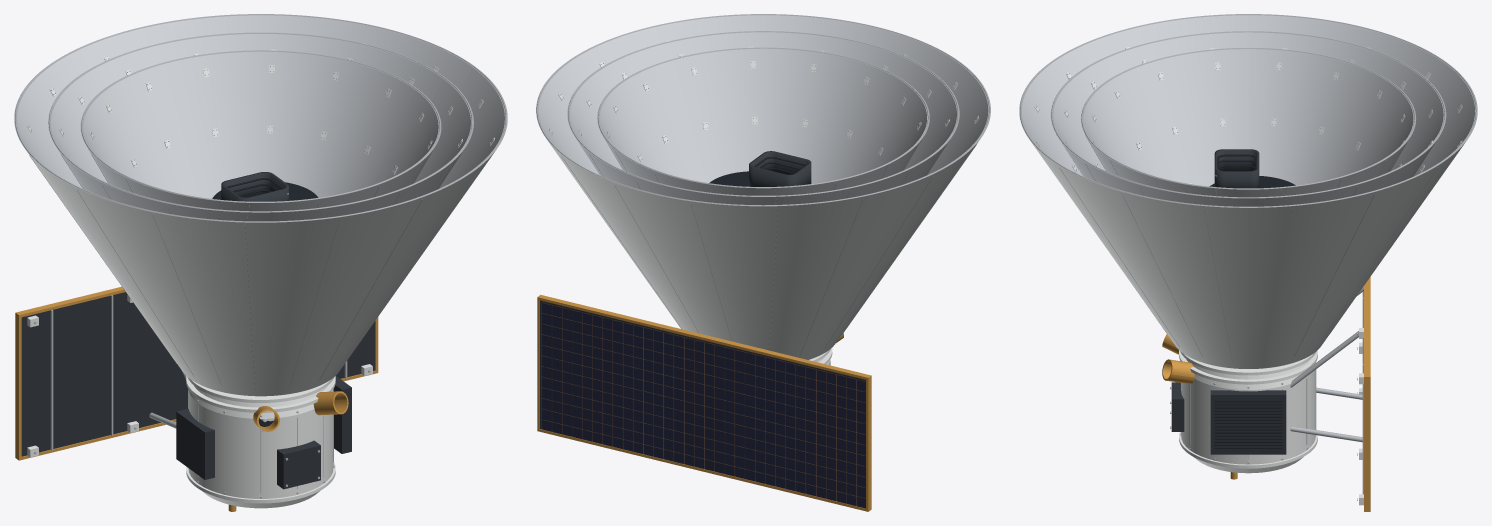
Rendered from spherex-hero.glb.
3 renders of one model, left to right at view 1: azimuth 30°, elevation 25°; view 2: azimuth 150°, elevation 25°; view 3: azimuth 270°, elevation 25°, orthographic. The views are drawn at different scales.
Parts seen in each view (by area): view 1: Shield_Outer_Cutaway_Mesh, Shield_Inner_Fixed_Mesh, Solar_Array_Mesh, Spacecraft_Bus_Mesh, Shield_Outer_Fixed_Mesh, Shield_Middle_Fixed_Mesh, Shield_Middle_Cutaway_Mesh, Shield_Inner_Cutaway_Mesh, Telescope_Mesh, Attitude_Sensors_Mesh; view 2: Solar_Array_Mesh, Shield_Outer_Fixed_Mesh, Shield_Inner_Cutaway_Mesh, Shield_Outer_Cutaway_Mesh, Shield_Middle_Cutaway_Mesh, Shield_Middle_Fixed_Mesh, Shield_Inner_Fixed_Mesh, Telescope_Mesh; view 3: Shield_Outer_Cutaway_Mesh, Shield_Outer_Fixed_Mesh, Shield_Inner_Fixed_Mesh, Shield_Inner_Cutaway_Mesh, Spacecraft_Bus_Mesh, Shield_Middle_Cutaway_Mesh, Shield_Middle_Fixed_Mesh, Solar_Array_Mesh, Telescope_Mesh, Attitude_Sensors_Mesh.
Boxes of the visible parts, x1,y1,x2,y2 form: Shield_Outer_Cutaway_Mesh: (47, 66, 507, 396); Shield_Inner_Fixed_Mesh: (80, 50, 416, 198); Solar_Array_Mesh: (15, 286, 378, 460); Spacecraft_Bus_Mesh: (176, 376, 351, 508); Shield_Outer_Fixed_Mesh: (14, 14, 474, 378); Shield_Middle_Fixed_Mesh: (48, 32, 444, 192); Shield_Middle_Cutaway_Mesh: (77, 77, 473, 221); Shield_Inner_Cutaway_Mesh: (105, 88, 441, 211); Telescope_Mesh: (212, 172, 318, 201); Attitude_Sensors_Mesh: (253, 391, 348, 431); Solar_Array_Mesh: (537, 294, 871, 511); Shield_Outer_Fixed_Mesh: (536, 62, 959, 359); Shield_Inner_Cutaway_Mesh: (620, 47, 929, 183); Shield_Outer_Cutaway_Mesh: (567, 14, 990, 349); Shield_Middle_Cutaway_Mesh: (594, 31, 959, 178); Shield_Middle_Fixed_Mesh: (567, 72, 933, 205); Shield_Inner_Fixed_Mesh: (597, 82, 907, 195); Telescope_Mesh: (709, 151, 811, 186); Shield_Outer_Cutaway_Mesh: (1019, 14, 1248, 368); Shield_Outer_Fixed_Mesh: (1248, 14, 1477, 368); Shield_Inner_Fixed_Mesh: (1248, 48, 1416, 197); Shield_Inner_Cutaway_Mesh: (1080, 48, 1248, 197); Spacecraft_Bus_Mesh: (1170, 350, 1317, 473); Shield_Middle_Cutaway_Mesh: (1050, 31, 1248, 206); Shield_Middle_Fixed_Mesh: (1248, 31, 1446, 206); Solar_Array_Mesh: (1290, 277, 1370, 511); Telescope_Mesh: (1209, 149, 1295, 188); Attitude_Sensors_Mesh: (1162, 334, 1194, 386).
Bounding box in the file's own units: 3.2 × 2.7 × 3.2.
